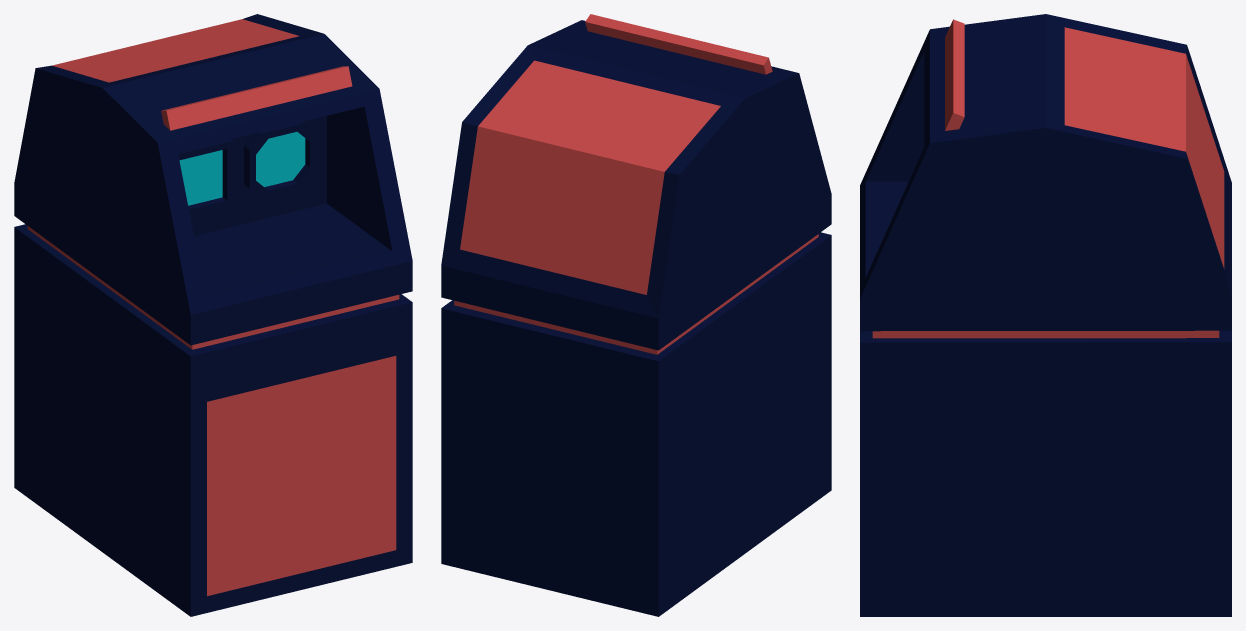
Rendered from DustBoxVer2Red.fbx.
3 views of the same model, side by side, from view 1: azimuth 30°, elevation 25°; view 2: azimuth 150°, elevation 25°; view 3: azimuth 270°, elevation 25° (orthographic). The views are drawn at different scales.
Parts seen in each view (by area): view 1: DustBoxVer2Red1; view 2: DustBoxVer2Red1; view 3: DustBoxVer2Red1.
Part boxes in pixels (box(x1,y1,x2,y2)): DustBoxVer2Red1: box(14, 14, 412, 616); DustBoxVer2Red1: box(441, 14, 831, 616); DustBoxVer2Red1: box(860, 14, 1231, 616).
Size of the model in its own units: 71.05 by 144 by 97.89.
